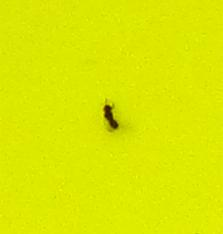Hymenoptera: (100, 100, 123, 134)
